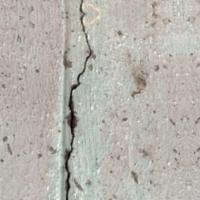crack: (44, 0, 114, 199)
